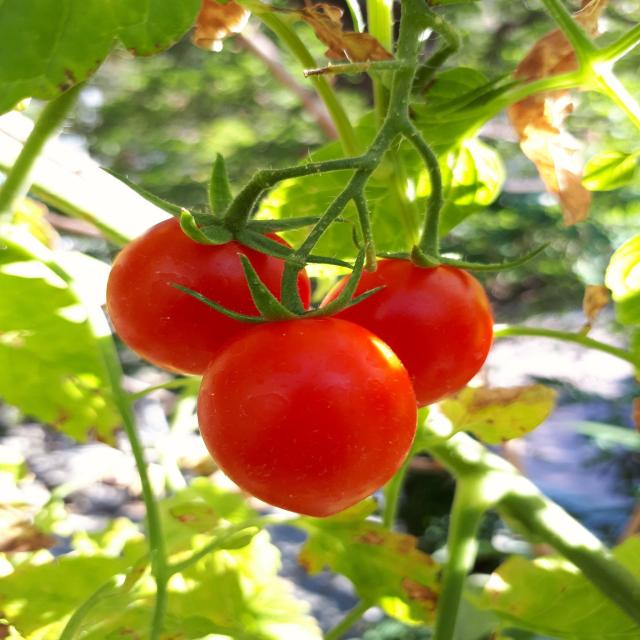level 6: (196, 314, 415, 518), (103, 214, 315, 376), (318, 246, 506, 407)
